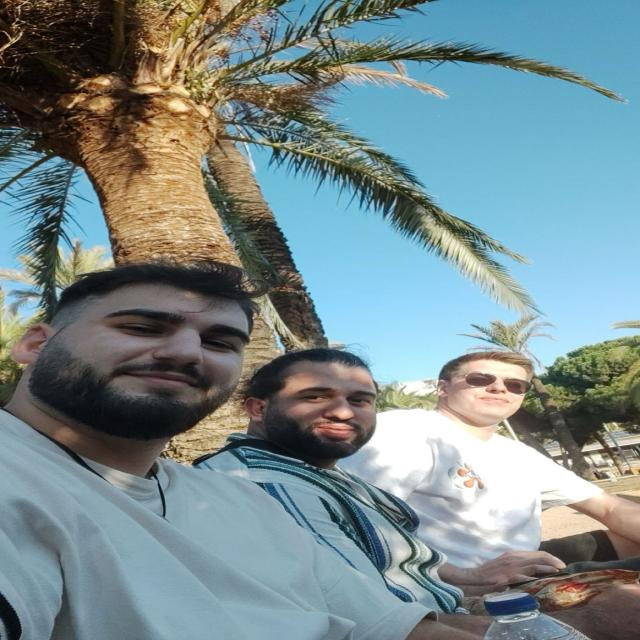JeremiasDiaz: (442, 353, 536, 430)
Sero: (17, 264, 258, 442)
face: (255, 354, 389, 462)
